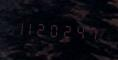four: (77, 21, 88, 42)
one: (29, 17, 40, 38), (17, 17, 28, 37)
seven: (89, 22, 100, 42)
two: (41, 18, 52, 39), (65, 20, 76, 41)
zero: (53, 19, 64, 40)
